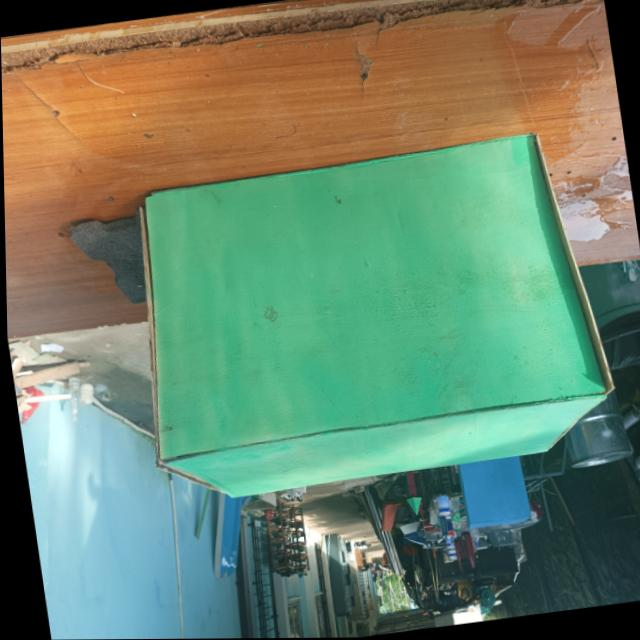green_box: (82, 79, 640, 548)
